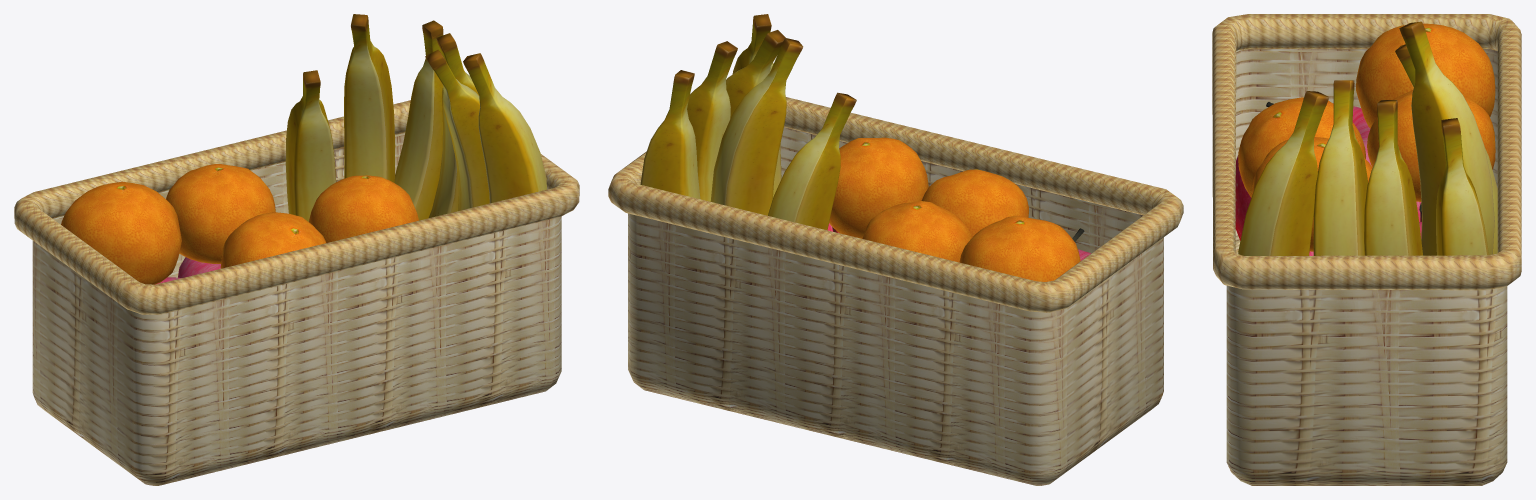
Rendered from fruitbasket_B_bara.fbx.
The picture shows the model from 3 angles, left to right: view 1: azimuth 30°, elevation 25°; view 2: azimuth 150°, elevation 25°; view 3: azimuth 270°, elevation 25°; orthographic projection. The views are drawn at different scales.
Visible parts, largest first — view 1: fruitbasket_A, orange_03, orange_04, banana_05, banana_01, banana_04, banana_06, orange_02, banana_02, orange_01, banana_03; view 2: fruitbasket_A, banana_05, orange_02, orange_03, banana_06, banana_04, orange_04, orange_01, banana_03, banana_02, banana_01; view 3: fruitbasket_A, banana_05, banana_01, banana_02, orange_03, banana_03, banana_04, orange_01, orange_04, apple_01, banana_06, orange_02.
Boxes of the visible parts, x1,y1,x2,y2 form: fruitbasket_A: (14,100,579,485); orange_03: (61,181,181,284); orange_04: (166,164,275,263); banana_05: (344,14,395,182); banana_01: (463,53,546,203); banana_04: (394,20,443,220); banana_06: (285,70,336,221); orange_02: (309,175,418,242); banana_02: (425,49,489,210); orange_01: (220,212,326,268); banana_03: (428,33,479,218); fruitbasket_A: (608,97,1183,485); banana_05: (710,38,803,215); orange_02: (829,137,928,238); orange_03: (959,215,1080,281); banana_06: (768,92,856,230); banana_04: (640,70,700,198); orange_04: (862,201,972,262); orange_01: (921,169,1028,236); banana_03: (687,41,737,201); banana_02: (726,30,785,118); banana_01: (732,14,781,197); fruitbasket_A: (1212,14,1521,485); banana_05: (1399,21,1494,255); banana_01: (1238,91,1329,255); banana_02: (1313,80,1367,255); orange_03: (1356,23,1495,128); banana_03: (1364,100,1422,255); banana_04: (1436,118,1489,255); orange_01: (1238,97,1365,197); orange_04: (1367,90,1495,201); apple_01: (1235,102,1371,240); banana_06: (1395,44,1497,254); orange_02: (1252,137,1372,251).
Size of the model in its own units: 21.38 by 15.74 by 11.02.
Materials: 7 (7 with a texture image).
